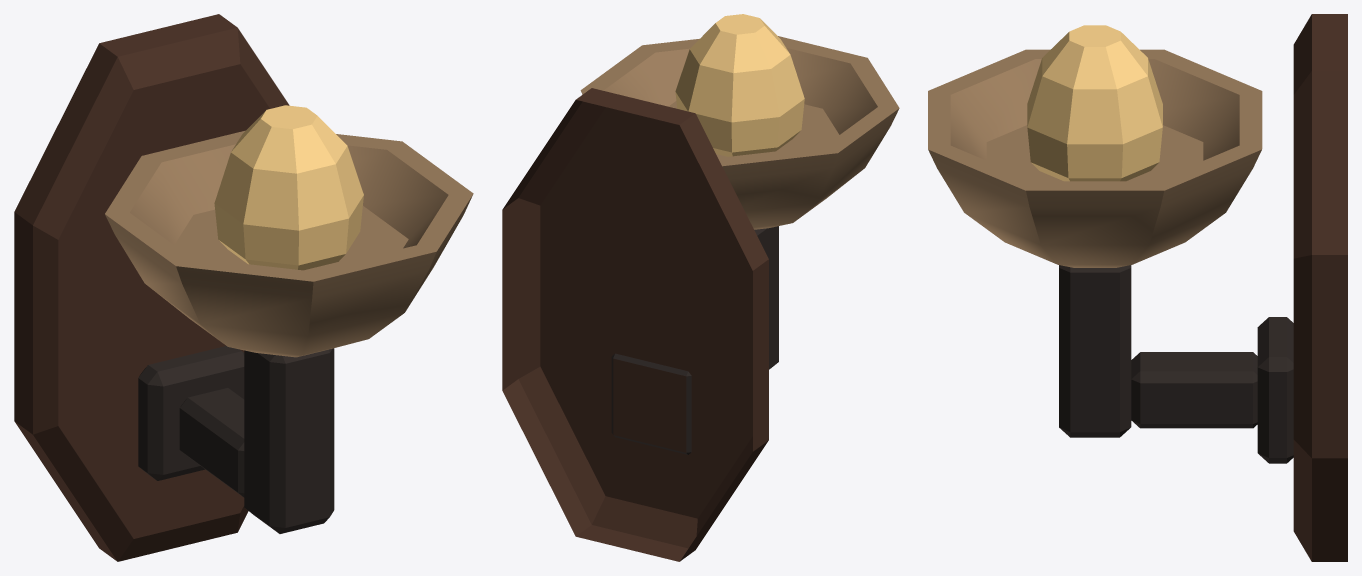
File: WallLightCup.fbx
3 views of the same model, side by side, from view 1: azimuth 30°, elevation 25°; view 2: azimuth 150°, elevation 25°; view 3: azimuth 270°, elevation 25° (orthographic). The views are drawn at different scales.
Visible parts, largest first — view 1: WallLightCup_Plate, WallLightCup_Shade, WallLightCup_Arm, WallLightCup_Bulb; view 2: WallLightCup_Plate, WallLightCup_Shade, WallLightCup_Bulb, WallLightCup_Arm; view 3: WallLightCup_Shade, WallLightCup_Plate, WallLightCup_Arm, WallLightCup_Bulb.
Part boxes in pixels (x1,y1,x2,y2): WallLightCup_Plate: (14, 14, 289, 561); WallLightCup_Shade: (105, 130, 473, 357); WallLightCup_Arm: (138, 346, 334, 533); WallLightCup_Bulb: (214, 105, 363, 270); WallLightCup_Plate: (502, 88, 768, 561); WallLightCup_Shade: (580, 36, 899, 229); WallLightCup_Bulb: (675, 14, 804, 156); WallLightCup_Arm: (611, 226, 778, 454); WallLightCup_Shade: (928, 49, 1262, 267); WallLightCup_Plate: (1293, 14, 1347, 561); WallLightCup_Arm: (1059, 265, 1293, 463); WallLightCup_Bulb: (1027, 25, 1162, 181).
Bounding box in the file's own units: 0.74 × 1.22 × 0.93.
